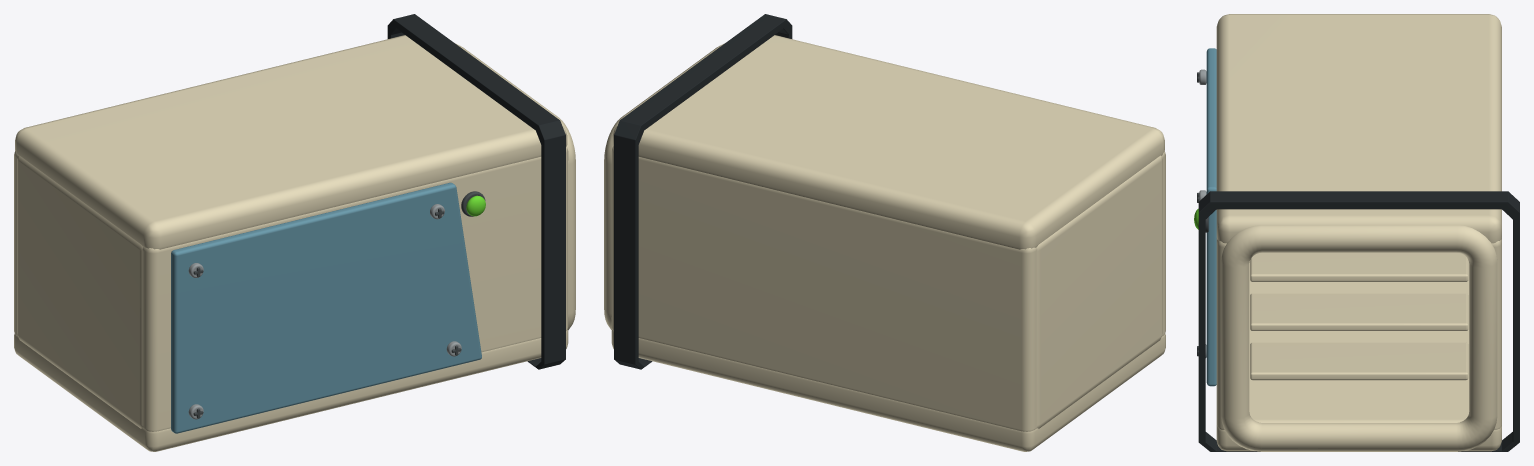
Rendered from ACBracelet(Flame).fbx.
3 views of the same model, side by side, from view 1: azimuth 30°, elevation 25°; view 2: azimuth 150°, elevation 25°; view 3: azimuth 270°, elevation 25° (orthographic). The views are drawn at different scales.
Parts seen in each view (by area): view 1: Ivory top shell, Blue side armor, Closed rear shell, Ivory side shell, Black fitted protective band, Ivory bottom shell, Rounded ivory vent rim, Ivory side shell.001; view 2: Ivory side shell.001, Ivory top shell, Closed rear shell, Black fitted protective band, Ivory bottom shell, Rounded ivory vent rim, Ivory side shell; view 3: Ivory top shell, Rounded ivory vent rim, Ivory bottom shell, Black fitted protective band, Horizontal vent louver, Horizontal vent louver.001, Horizontal vent louver.002, Blue side armor, Ivory side shell, Ivory side shell.001.
Part boxes in pixels (x1,y1,x2,y2): Ivory top shell: [15, 35, 567, 249]; Blue side armor: [171, 182, 481, 433]; Closed rear shell: [17, 155, 143, 428]; Ivory side shell: [142, 146, 568, 431]; Black fitted protective band: [387, 14, 565, 369]; Ivory bottom shell: [14, 330, 568, 451]; Rounded ivory vent rim: [455, 43, 575, 330]; Ivory side shell.001: [14, 151, 18, 336]; Ivory side shell.001: [611, 146, 1037, 431]; Ivory top shell: [612, 35, 1164, 249]; Closed rear shell: [1036, 155, 1162, 428]; Black fitted protective band: [614, 14, 792, 369]; Ivory bottom shell: [611, 330, 1165, 451]; Rounded ivory vent rim: [604, 43, 724, 330]; Ivory side shell: [1161, 151, 1165, 336]; Ivory top shell: [1216, 14, 1501, 243]; Rounded ivory vent rim: [1221, 225, 1497, 451]; Ivory bottom shell: [1216, 260, 1501, 451]; Black fitted protective band: [1198, 191, 1519, 451]; Horizontal vent louver: [1250, 342, 1468, 380]; Horizontal vent louver.001: [1250, 293, 1468, 330]; Horizontal vent louver.002: [1250, 253, 1468, 281]; Blue side armor: [1206, 48, 1216, 386]; Ivory side shell: [1216, 238, 1226, 429]; Ivory side shell.001: [1492, 237, 1501, 429].
Bounding box in the file's own units: 180 × 96.77 × 114.
